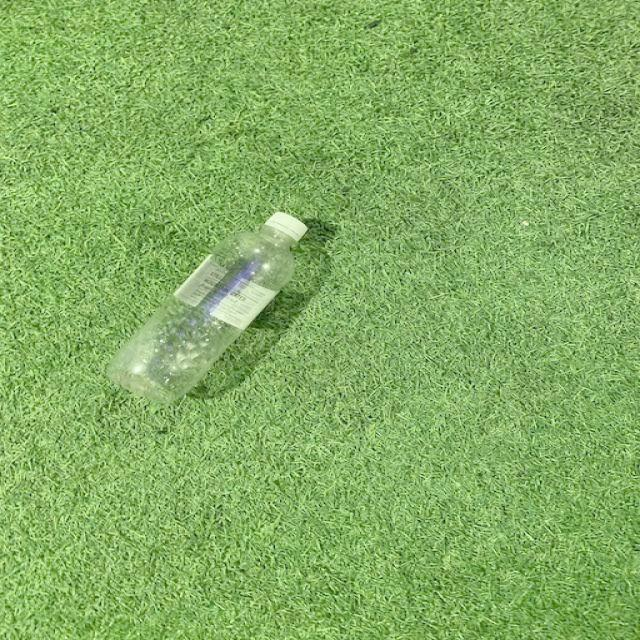bottle: (106, 213, 308, 403)
